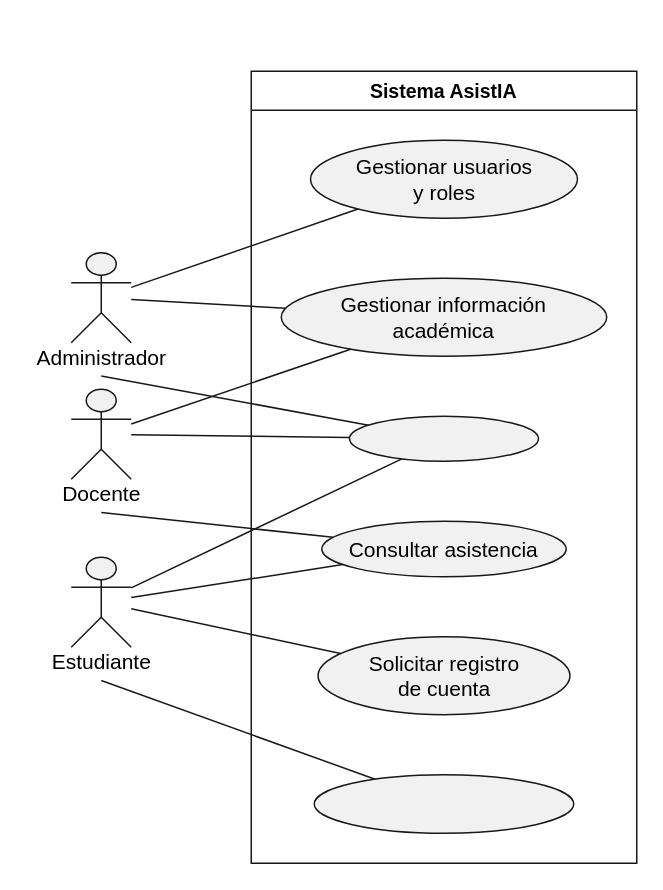
Some shapes in this 663 by 890 pixel diagram are drawn without their labels. Here are the shapes that lost their labels. From the top down, the centre of each, then its label:
pixel 443 438: Iniciar sesión
pixel 443 803: Utilizar PIN temporal
